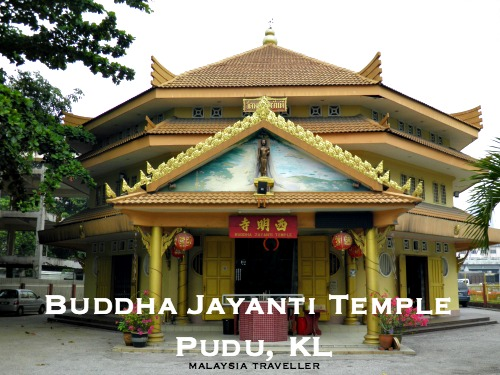Buddhist Temple: (68, 34, 451, 330)
